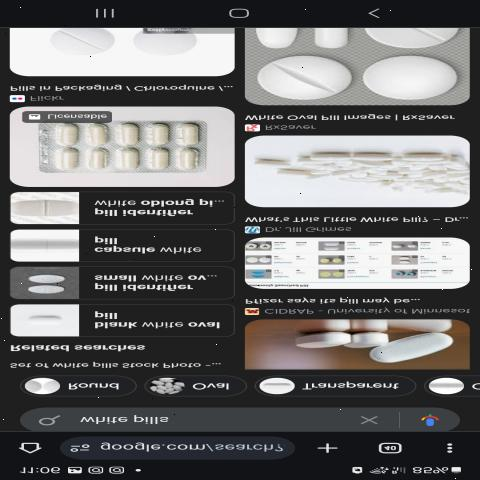Pill: (253, 51, 362, 106), (353, 54, 480, 100), (366, 329, 470, 366), (47, 27, 124, 58), (286, 325, 354, 358), (258, 165, 338, 184), (46, 118, 84, 150), (22, 310, 69, 334), (402, 150, 458, 167), (171, 122, 207, 147), (24, 282, 76, 296), (31, 270, 73, 287)
